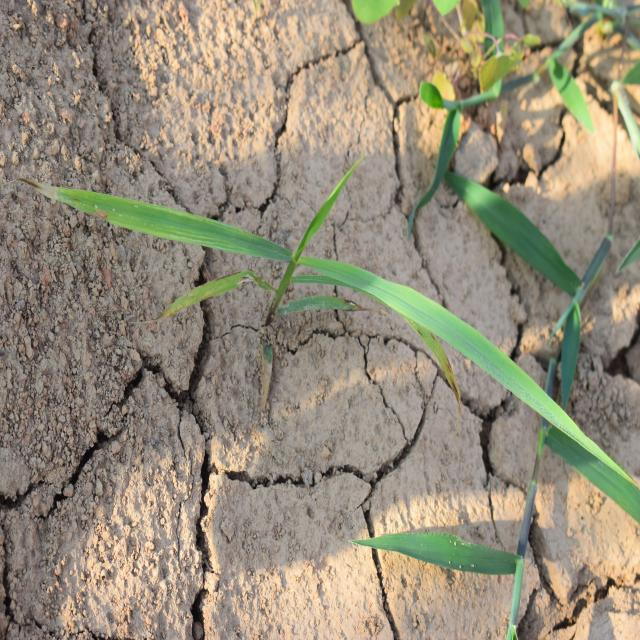green_foxtail: (91, 169, 516, 384)
